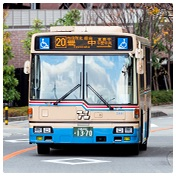destination: (51, 35, 115, 50)
